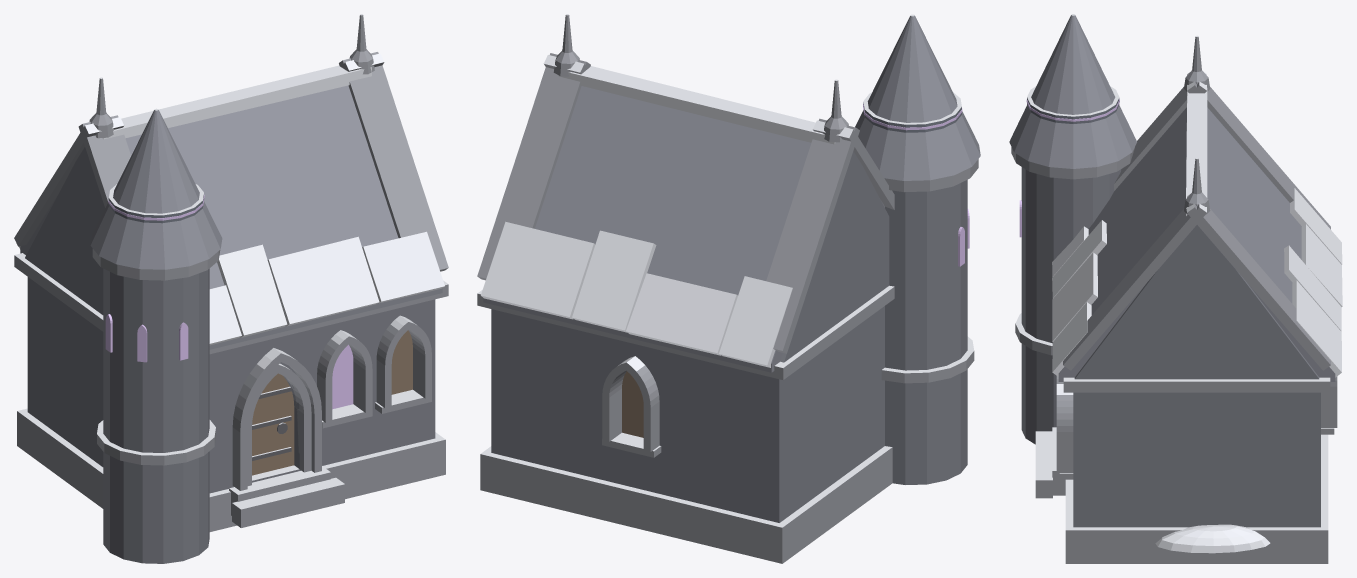
The model's file is AR_Casa_Aprendiz_B.fbx.
3 views of the same model, side by side, from view 1: azimuth 30°, elevation 25°; view 2: azimuth 150°, elevation 25°; view 3: azimuth 270°, elevation 25° (orthographic). The views are drawn at different scales.
Parts seen in each view (by area): view 1: AR_Casa_Aprendiz_B; view 2: AR_Casa_Aprendiz_B; view 3: AR_Casa_Aprendiz_B.
Part boxes in pixels (left/top/right/bottom): AR_Casa_Aprendiz_B: left=14, top=14, right=448, bottom=563; AR_Casa_Aprendiz_B: left=477, top=14, right=980, bottom=563; AR_Casa_Aprendiz_B: left=1009, top=14, right=1342, bottom=563.
Bounding box in the file's own units: 9.79 × 11.1 × 8.08.
